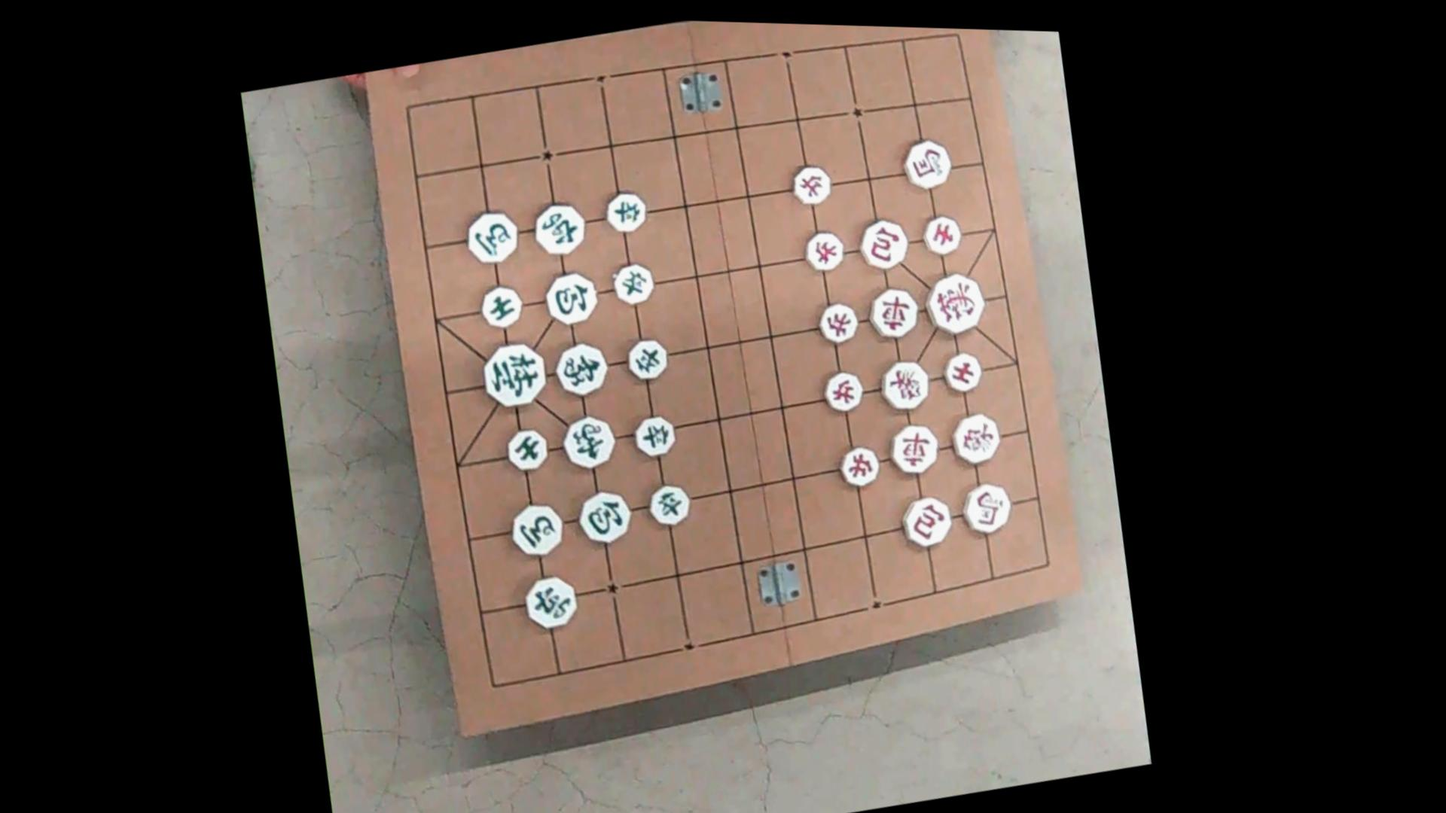cha_green: (520, 571, 582, 631), (529, 199, 590, 257)
cha_red: (884, 419, 944, 477), (865, 283, 923, 340)
jol_green: (645, 481, 694, 528), (601, 188, 651, 234), (623, 335, 671, 382), (630, 412, 679, 458), (609, 260, 657, 306)
jol_red: (835, 443, 883, 489), (819, 367, 867, 413), (815, 299, 862, 345), (801, 227, 848, 272), (789, 162, 834, 206)
ma_green: (462, 206, 523, 265), (506, 500, 568, 558)
ma_red: (957, 479, 1017, 536), (898, 135, 955, 190)
po_green: (573, 486, 636, 545), (541, 267, 602, 326)
po_red: (896, 492, 956, 550), (854, 215, 912, 271)
sa_green: (477, 283, 526, 330), (503, 425, 551, 471)
sa_red: (918, 211, 966, 257), (938, 349, 985, 394)
sang_green: (557, 411, 620, 471), (551, 338, 613, 397)
sang_red: (875, 355, 934, 413), (947, 409, 1005, 466)
wang_green: (476, 336, 553, 410)
wang_red: (920, 269, 990, 338)
